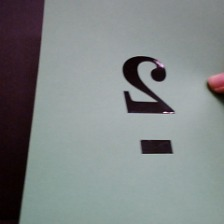green2: (115, 49, 186, 162)
